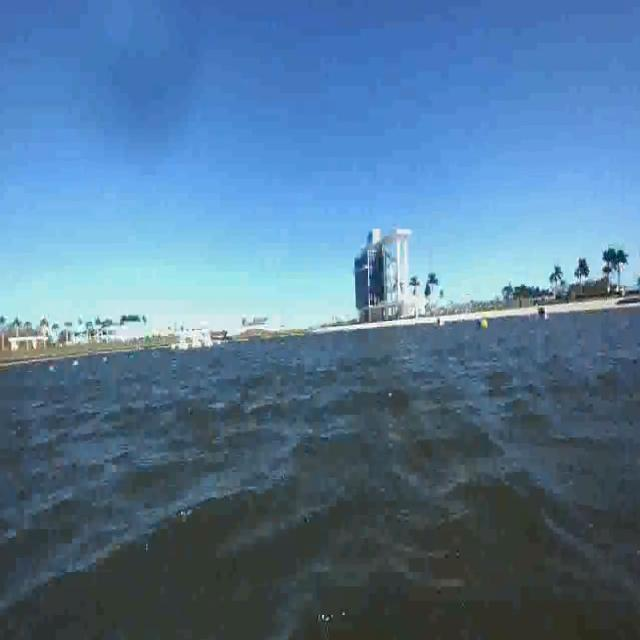yellow-buoy: (482, 318, 490, 330)
